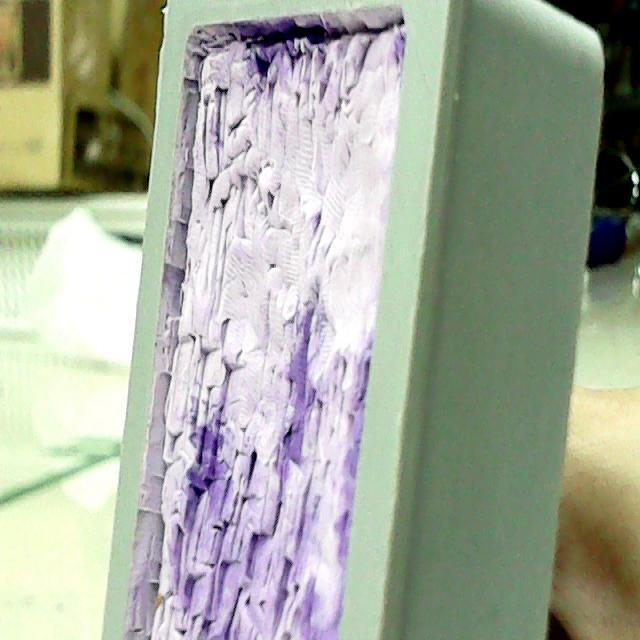block: (93, 0, 602, 637)
